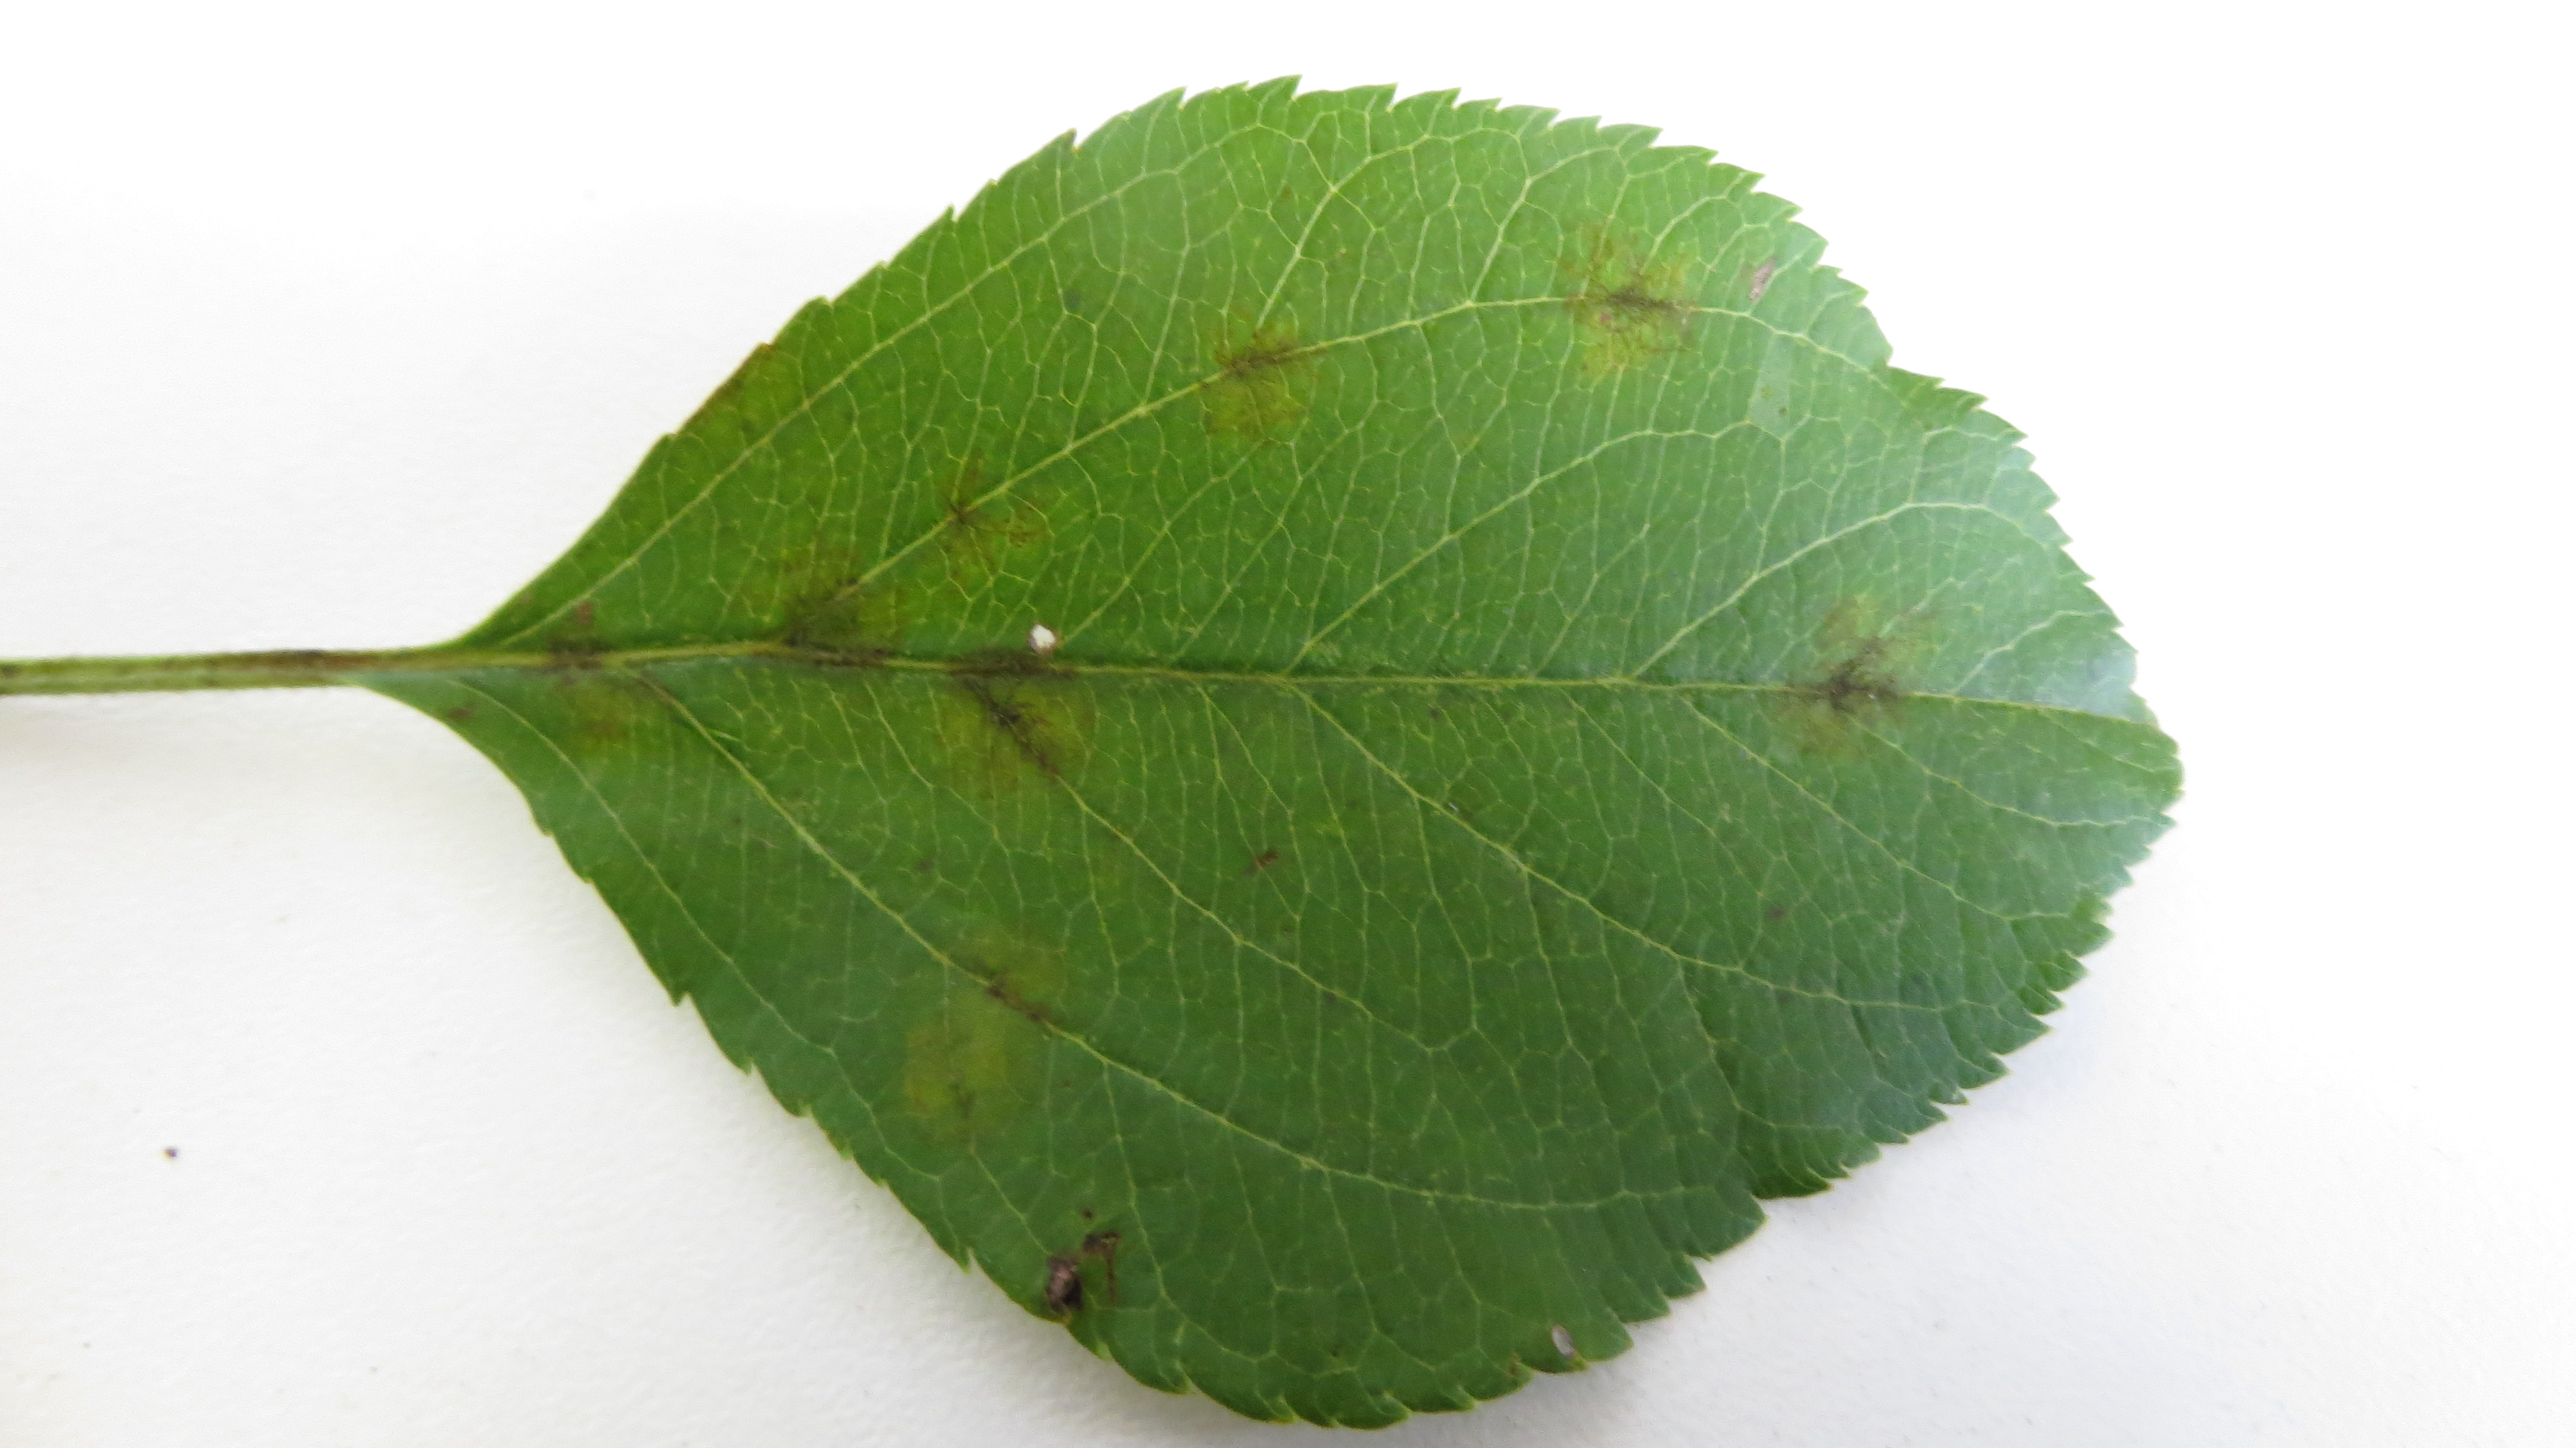sarna: (1771, 597, 1916, 756), (938, 632, 1076, 791), (771, 556, 911, 703), (540, 595, 663, 749), (899, 1014, 1031, 1152), (1562, 241, 1704, 365), (954, 908, 1079, 1036), (925, 453, 1047, 570), (1214, 324, 1318, 435), (1069, 1181, 1131, 1276), (1021, 1243, 1088, 1329)
